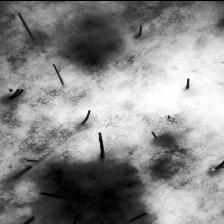Potentially Malignant Skin Tumors: (46, 161, 142, 224), (72, 16, 124, 76), (147, 116, 191, 180)
